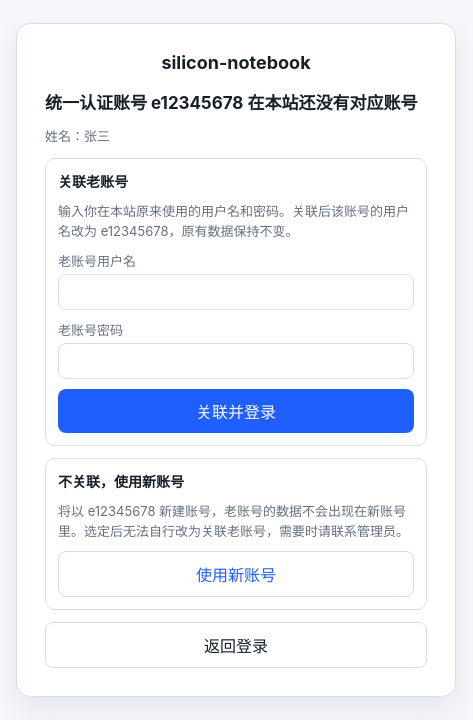
Test: create: a failure is reported beside the new-account button
Click the button "使用新账号" at x=236, y=574, box left=58, top=551, right=414, bottom=597
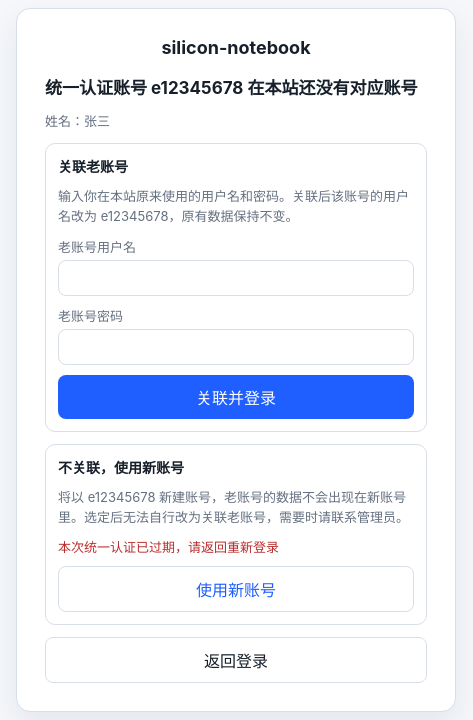
Expected: the button "使用新账号" is enabled, left=58, top=566, right=414, bottom=612
Now the element "不关联，使用新账号" shows "本次统一认证已过期，请返回重新登录", box left=58, top=539, right=279, bottom=555
